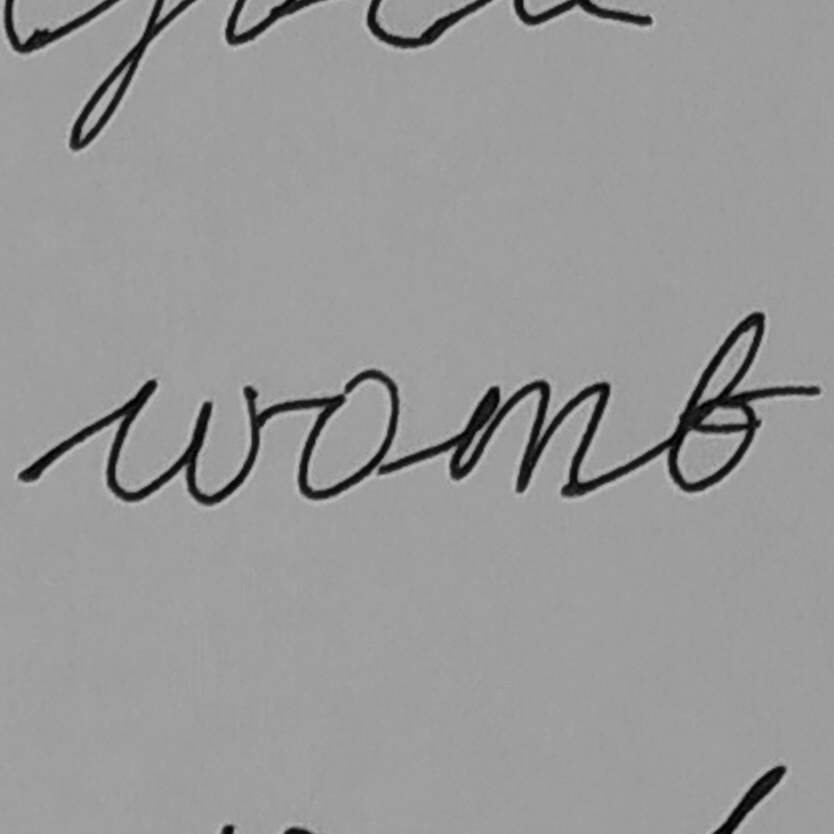b: (663, 306, 769, 496)
m: (445, 374, 614, 502)
o: (292, 366, 405, 503)
w: (101, 374, 273, 510)
